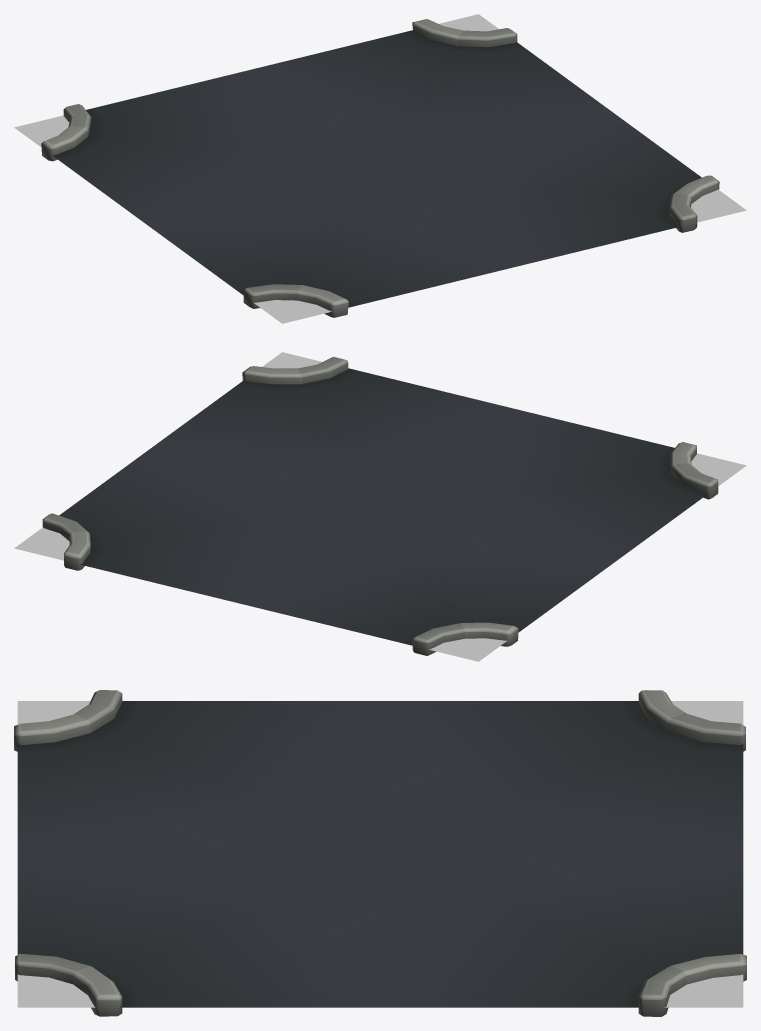
Rendered from road_section_cross.fbx.
The picture shows the model from 3 angles, top to bottom: view 1: azimuth 30°, elevation 25°; view 2: azimuth 150°, elevation 25°; view 3: azimuth 270°, elevation 25°; orthographic projection. The views are drawn at different scales.
Parts seen in each view (by area): view 1: road_section_cross, road_section_cross_sidewalk; view 2: road_section_cross, road_section_cross_sidewalk; view 3: road_section_cross, road_section_cross_sidewalk.
Part boxes in pixels (left/top/right/bottom): road_section_cross: left=41, top=19, right=719, bottom=317; road_section_cross_sidewalk: left=14, top=14, right=746, bottom=323; road_section_cross: left=42, top=357, right=718, bottom=655; road_section_cross_sidewalk: left=14, top=352, right=746, bottom=661; road_section_cross: left=14, top=690, right=746, bottom=1016; road_section_cross_sidewalk: left=17, top=701, right=743, bottom=1007.
Bounding box in the file's own units: 1617 × 53.6 × 1617.
